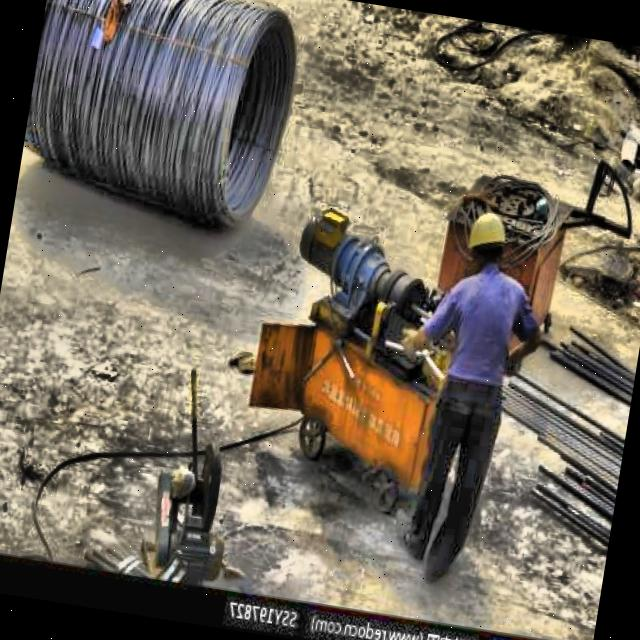helmet: (459, 206, 513, 274)
